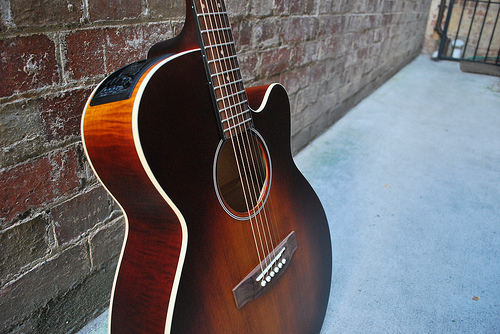guitar: (79, 1, 333, 331)
